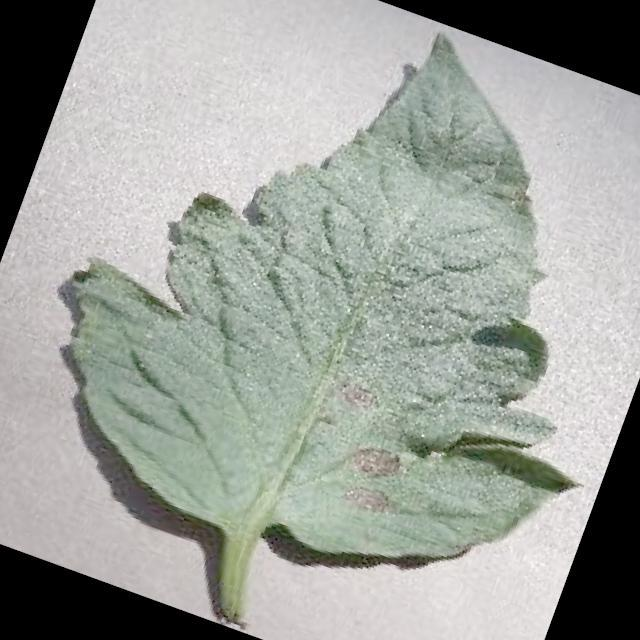Tomato Early blight leaf: (16, 0, 640, 635)
